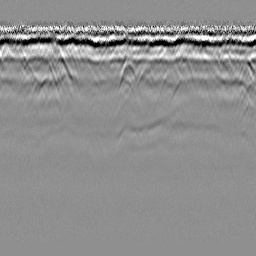cavity: (117, 59, 139, 91)
